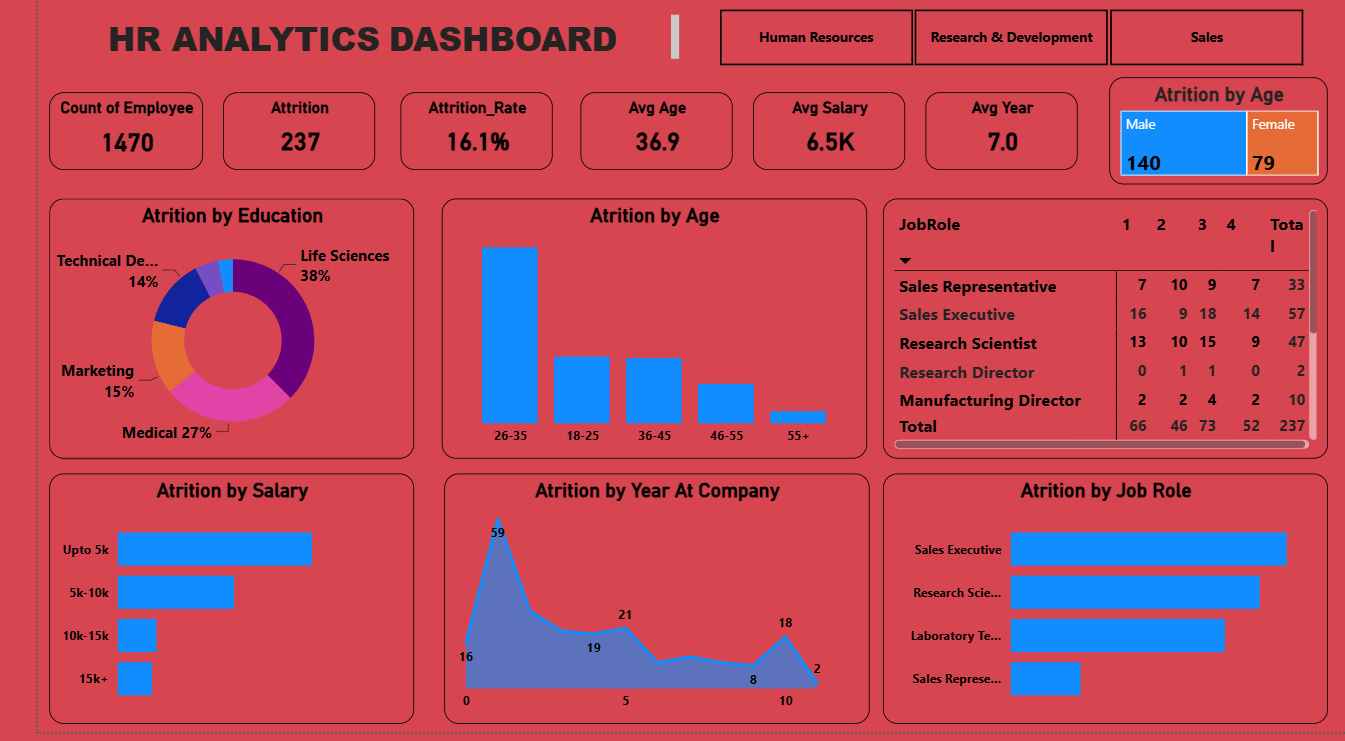

The page's visual inventory and layout, read from the dashboard file:
{"tool":"powerbi","page":{"name":"Page 1","canvas":[1280,720],"ordinal":0},"visuals":[{"type":"card","title":"Count of Employee","fields":{"Values":["CountNonNull(HR_Analytics.EmpID)"]},"box":[10.9,93.7,150.7,76],"z":0},{"type":"card","title":"Attrition","fields":{"Values":["Sum(HR_Analytics.AttritionCount)"]},"box":[180.9,94.1,149.1,75.8],"z":1000},{"type":"card","title":"Attrition_Rate","fields":{"Values":["HR_Analytics.Attrition_rate"]},"box":[354.5,94.1,149.1,75.8],"z":2000},{"type":"card","title":"Avg Age","fields":{"Values":["Avg(HR_Analytics.Age)"]},"box":[530.5,94.1,149.1,75.8],"z":3000},{"type":"card","title":"Avg Salary","fields":{"Values":["Avg(HR_Analytics.MonthlyIncome)"]},"box":[699.2,94.1,149.1,75.8],"z":4000},{"type":"card","title":"Avg Year","fields":{"Values":["Avg(HR_Analytics.YearsAtCompany)"]},"box":[867.9,94.1,149.1,75.8],"z":5000},{"type":"donutChart","title":"Atrition by  Education","fields":{"Category":["HR_Analytics.EducationField"],"Y":["Sum(HR_Analytics.AttritionCount)"]},"box":[11,198,356.9,254.3],"z":6000},{"type":"columnChart","title":"Atrition by Age","fields":{"Y":["Sum(HR_Analytics.AttritionCount)"],"Category":["HR_Analytics.AgeGroup"]},"box":[394.8,198,415.6,254.3],"z":7000},{"type":"pivotTable","fields":{"Rows":["HR_Analytics.JobRole"],"Columns":["HR_Analytics.JobSatisfaction"],"Values":["Sum(HR_Analytics.AttritionCount)"]},"box":[826.3,198,435.2,254.3],"z":8000},{"type":"clusteredBarChart","title":"Atrition by Salary","fields":{"Category":["HR_Analytics.SalarySlab"],"Y":["Sum(HR_Analytics.JobSatisfaction)"]},"box":[11,467,356.9,244.5],"z":9000},{"type":"clusteredBarChart","title":"Atrition by Job Role","fields":{"Y":["Sum(HR_Analytics.JobSatisfaction)"],"Category":["HR_Analytics.JobRole"]},"box":[826.3,467,435.2,244.5],"z":10000},{"type":"areaChart","title":"Atrition by Year At Company","fields":{"Y":["Sum(HR_Analytics.AttritionCount)"],"Category":["HR_Analytics.YearsAtCompany"]},"box":[397.3,467,415.6,244.5],"z":11000},{"type":"treemap","title":"Atrition by Age","fields":{"Group":["HR_Analytics.Gender"],"Values":["Sum(HR_Analytics.AttritionCount)"]},"box":[1047.6,79.5,213.9,105.1],"z":12000},{"type":"slicer","fields":{"Values":["HR_Analytics.Department"]},"box":[640.5,6.1,621,68.5],"z":13000},{"type":"textbox","box":[11,13.4,621,53.8],"z":13001}]}

Visuals, with their boxes in screenshot pixels (x1, y1, x2, y2), scaled from the page's 1280x720 canvas onto the 1345x741 screenshot:
"Count of Employee" card: Rect(11, 96, 170, 175)
"Attrition" card: Rect(190, 97, 347, 175)
"Attrition_Rate" card: Rect(373, 97, 529, 175)
"Avg Age" card: Rect(557, 97, 714, 175)
"Avg Salary" card: Rect(735, 97, 891, 175)
"Avg Year" card: Rect(912, 97, 1069, 175)
"Atrition by  Education" donutChart: Rect(12, 204, 387, 465)
"Atrition by Age" columnChart: Rect(415, 204, 852, 465)
pivotTable - HR_Analytics.JobRole x HR_Analytics.JobSatisfaction: Rect(868, 204, 1326, 465)
"Atrition by Salary" clusteredBarChart: Rect(12, 481, 387, 732)
"Atrition by Job Role" clusteredBarChart: Rect(868, 481, 1326, 732)
"Atrition by Year At Company" areaChart: Rect(417, 481, 854, 732)
"Atrition by Age" treemap: Rect(1101, 82, 1326, 190)
slicer - HR_Analytics.Department: Rect(673, 6, 1326, 77)
textbox: Rect(12, 14, 664, 69)
